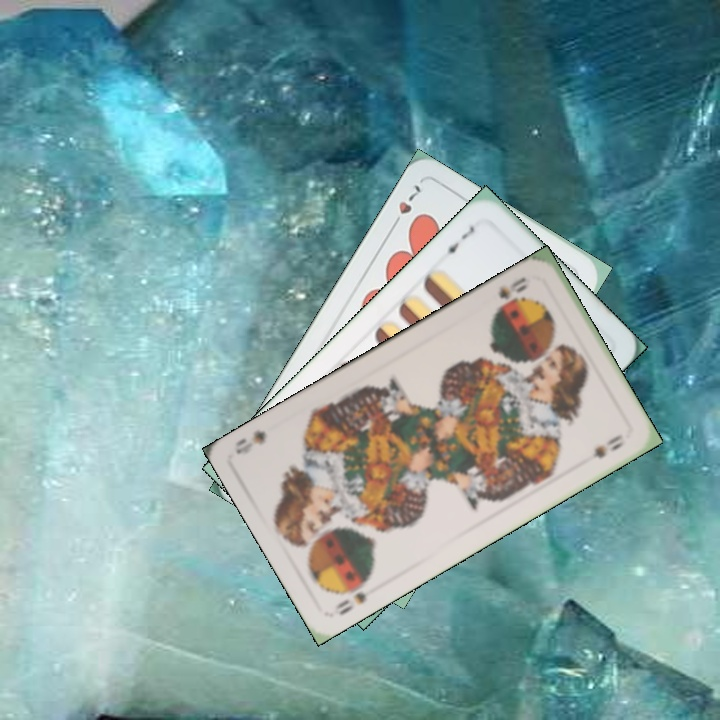E7: (437, 221, 477, 260)
H7: (387, 180, 424, 232)
SO: (328, 588, 369, 618), (494, 272, 530, 302)
